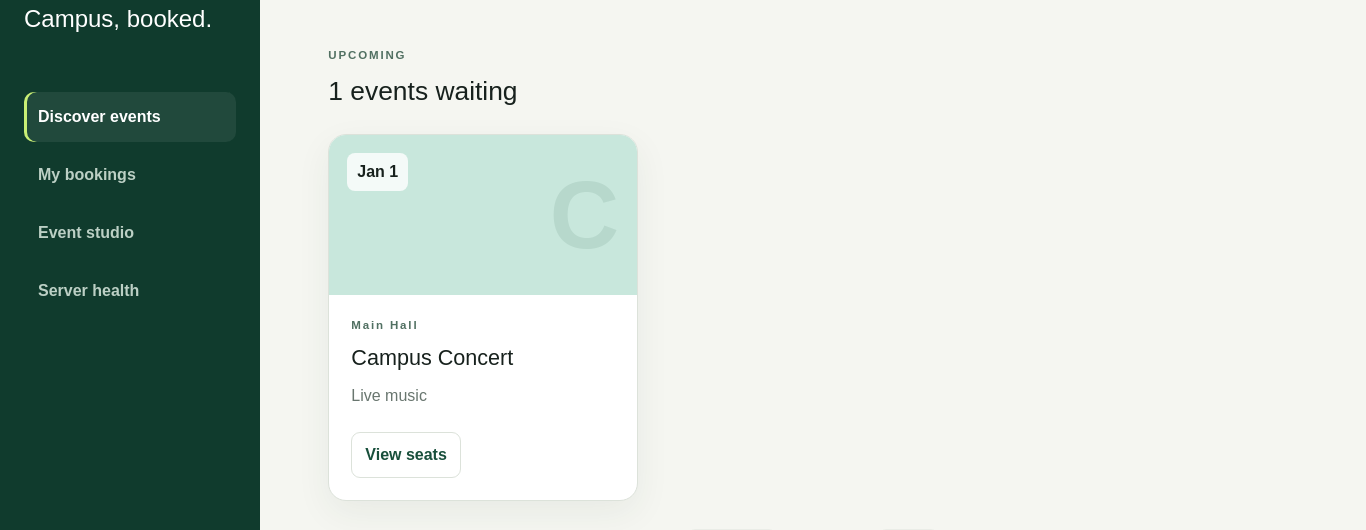
UniEvents portal › lets an administrator open an event booking manifest
The image size is (1366, 530).
Click the button "Event studio": (130, 233) [24, 208, 236, 258]
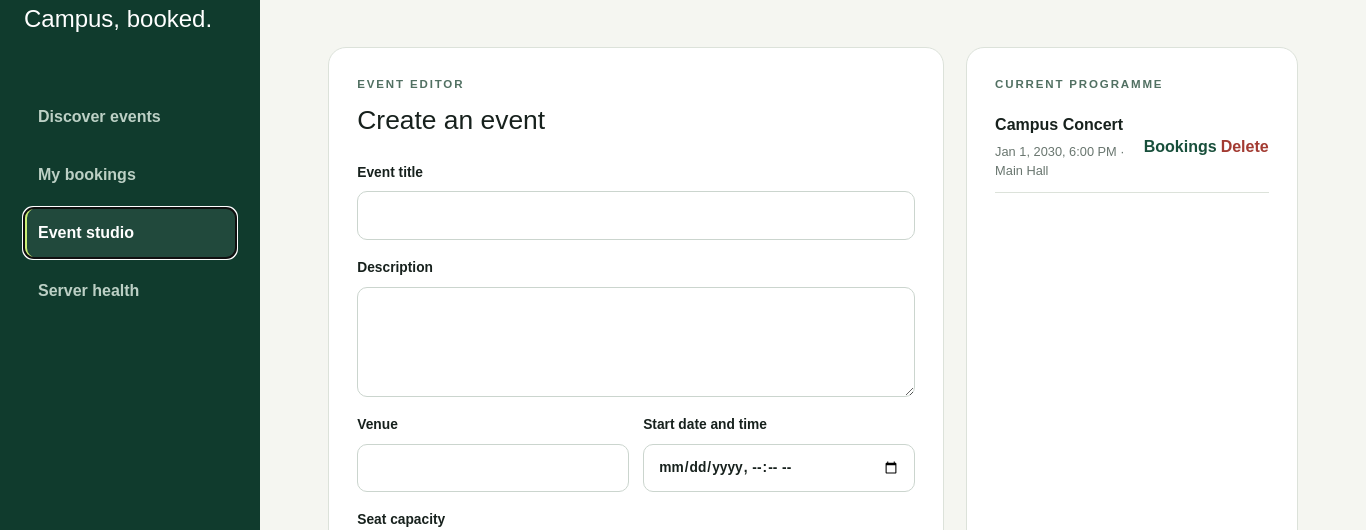
Click the button "Bookings": (1180, 147) [1144, 135, 1217, 159]
(page scrolled)
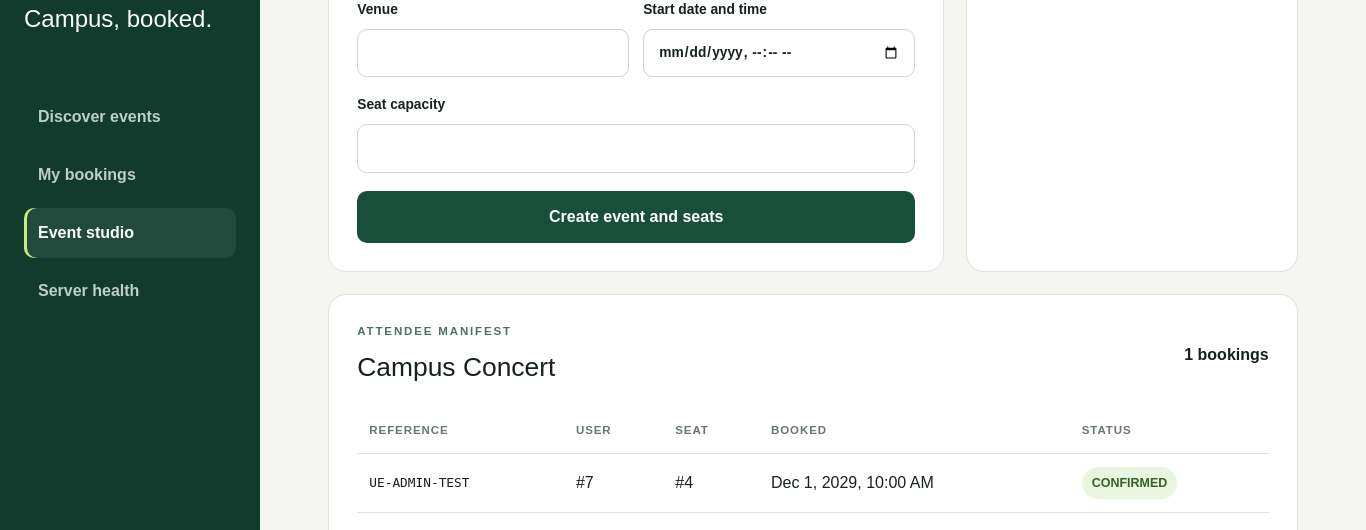
Expected: the heading "Campus Concert" is shown, [357, 348, 555, 387]
Expected: the text "UE-ADMIN-TEST" is shown, [357, 453, 564, 513]
Expected: the text "#7" is shown, [564, 453, 663, 513]
